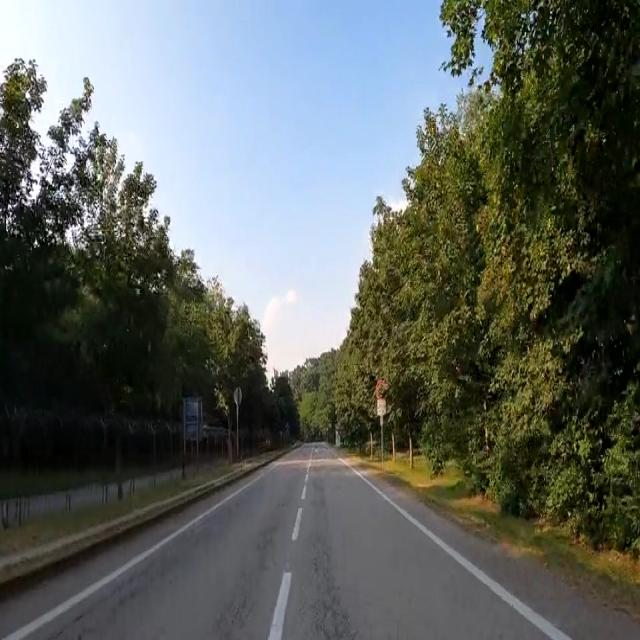lane: (338, 457, 571, 639), (4, 477, 261, 639), (269, 571, 291, 640), (291, 507, 302, 540), (301, 484, 306, 500)
road: (0, 444, 639, 638)
